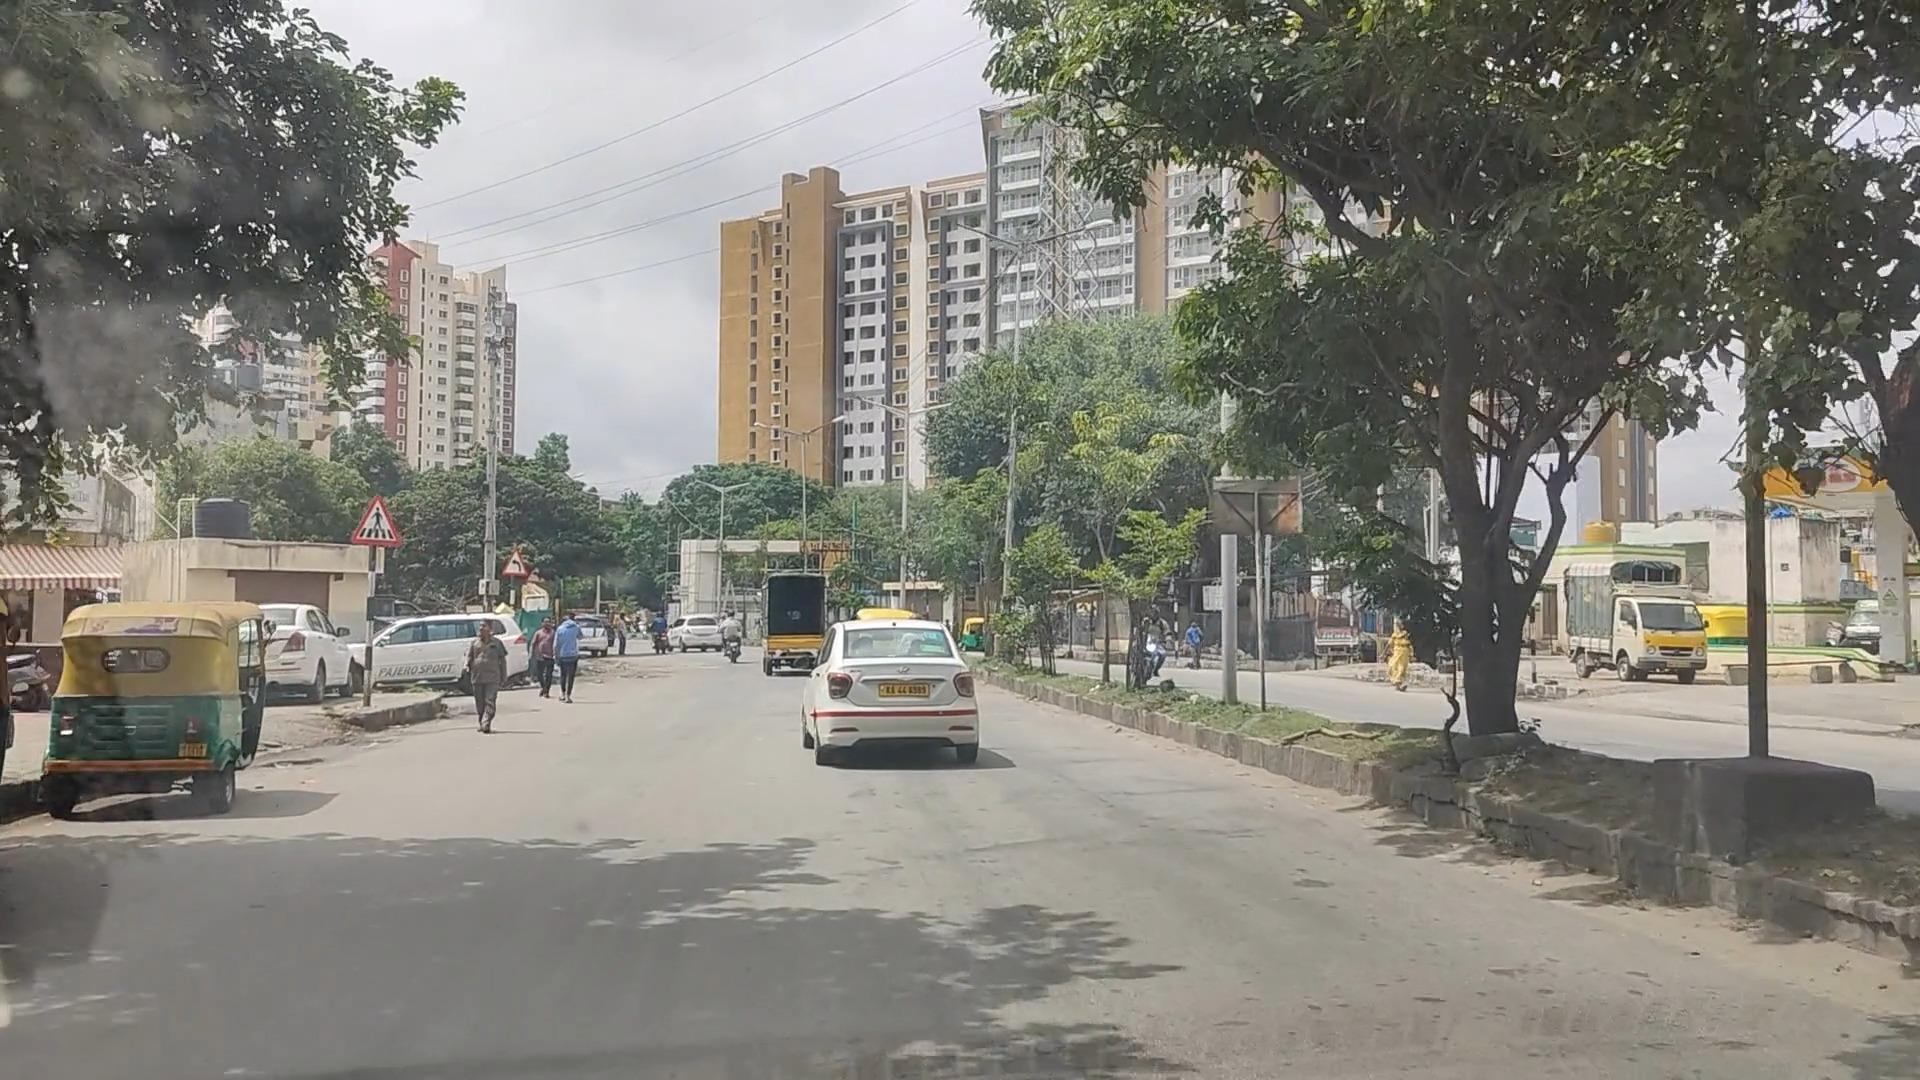LMV: (45, 615, 255, 823), (804, 622, 964, 777)
